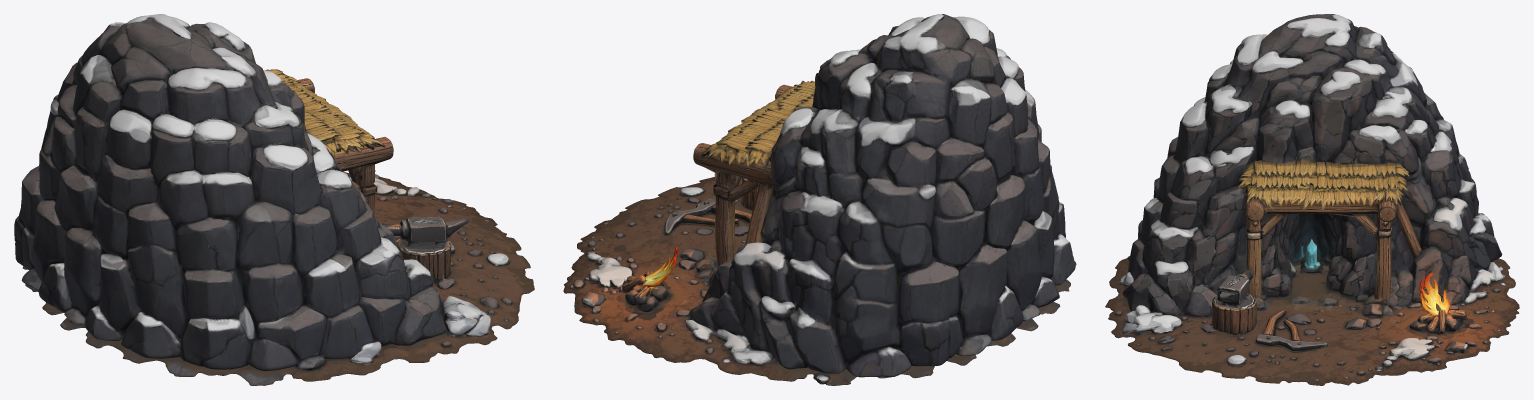
File: tripo_convert_fe7c1149-9f67-4a21-afb7-dda53af6da29.fbx
3 views of the same model, side by side, from view 1: azimuth 30°, elevation 25°; view 2: azimuth 150°, elevation 25°; view 3: azimuth 270°, elevation 25° (orthographic). The views are drawn at different scales.
Visible parts, largest first — view 1: tripo_node_fe7c1149; view 2: tripo_node_fe7c1149; view 3: tripo_node_fe7c1149.
Part boxes in pixels (box(x1,y1,x2,y2)): tripo_node_fe7c1149: box(14, 14, 534, 385); tripo_node_fe7c1149: box(563, 14, 1076, 385); tripo_node_fe7c1149: box(1105, 14, 1519, 385).
Bounding box in the file's own units: 0.985 × 0.6088 × 0.9781.
1 material, 1 textured.
